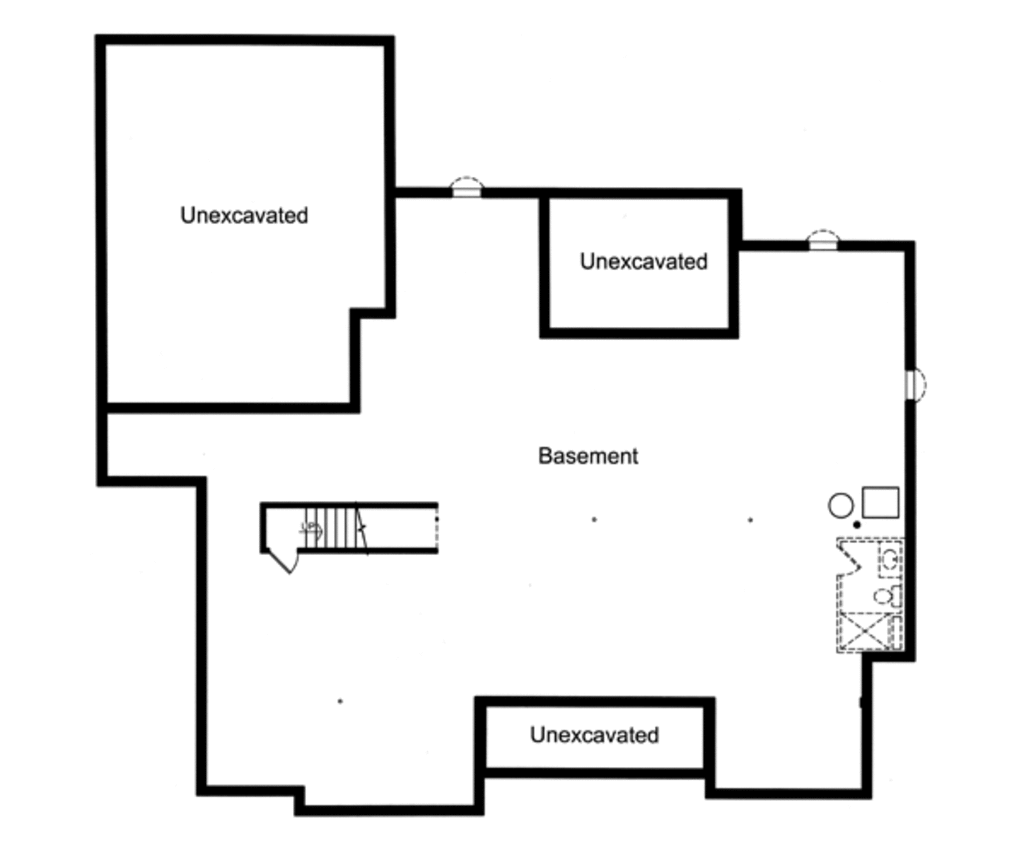door: (836, 545, 861, 582), (271, 547, 300, 578)
large_sink: (867, 586, 906, 614)
small_sink: (876, 539, 901, 586)
stairs: (296, 502, 439, 553)
window: (903, 364, 932, 405), (452, 171, 483, 201), (806, 228, 842, 252)
